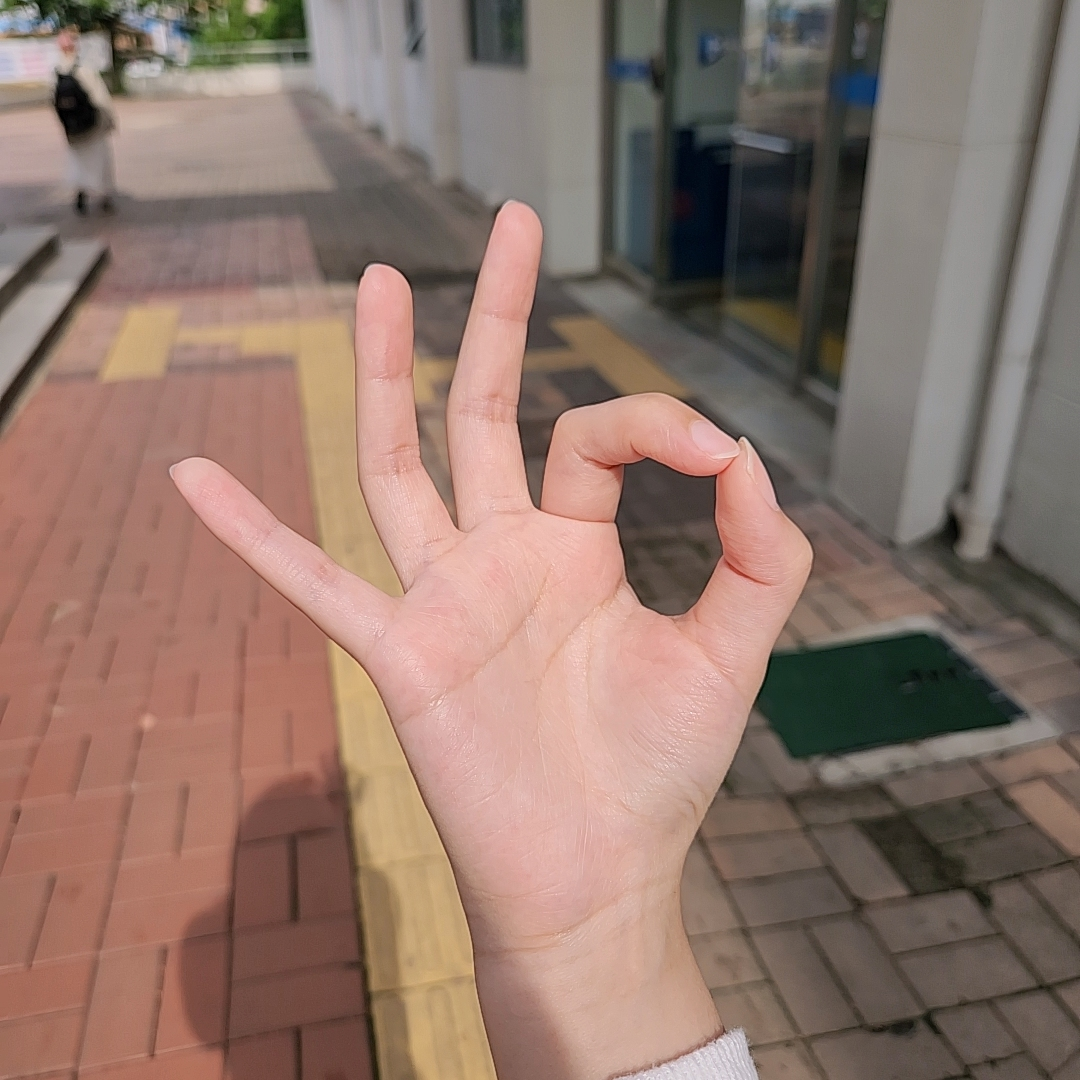see: (169, 197, 813, 890)
